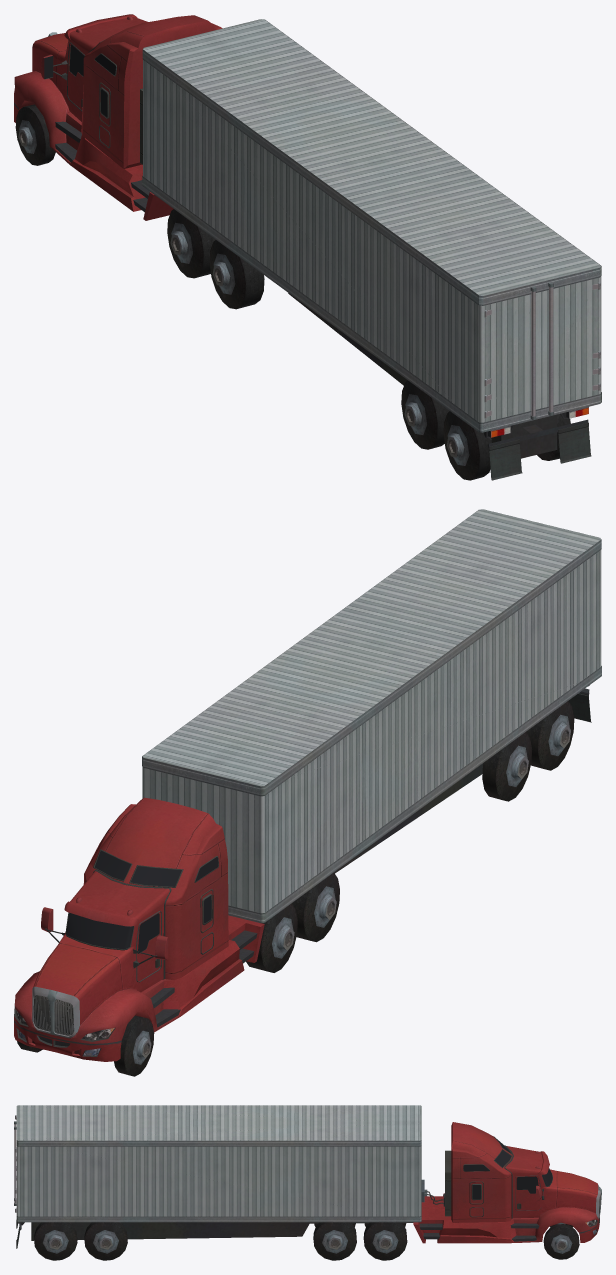
Rendered from Truck_With_Trailer.glb.
3 views of the same model, one above another, from view 1: azimuth 30°, elevation 25°; view 2: azimuth 150°, elevation 25°; view 3: azimuth 270°, elevation 25° (orthographic). The views are drawn at different scales.
Parts seen in each view (by area): view 1: Truck_With_Trailer__LOD3; view 2: Truck_With_Trailer__LOD3; view 3: Truck_With_Trailer__LOD3.
Part boxes in pixels (x1,y1,x2,y2): Truck_With_Trailer__LOD3: [14, 14, 601, 480]; Truck_With_Trailer__LOD3: [14, 509, 601, 1076]; Truck_With_Trailer__LOD3: [14, 1105, 601, 1260].
Bounding box in the file's own units: 2.84 × 4.55 × 19.46.
2 materials, 2 textured.
